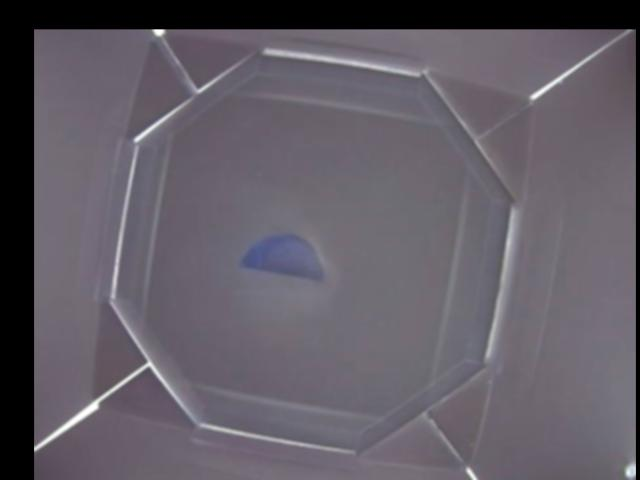Mooli: (239, 234, 325, 280)
